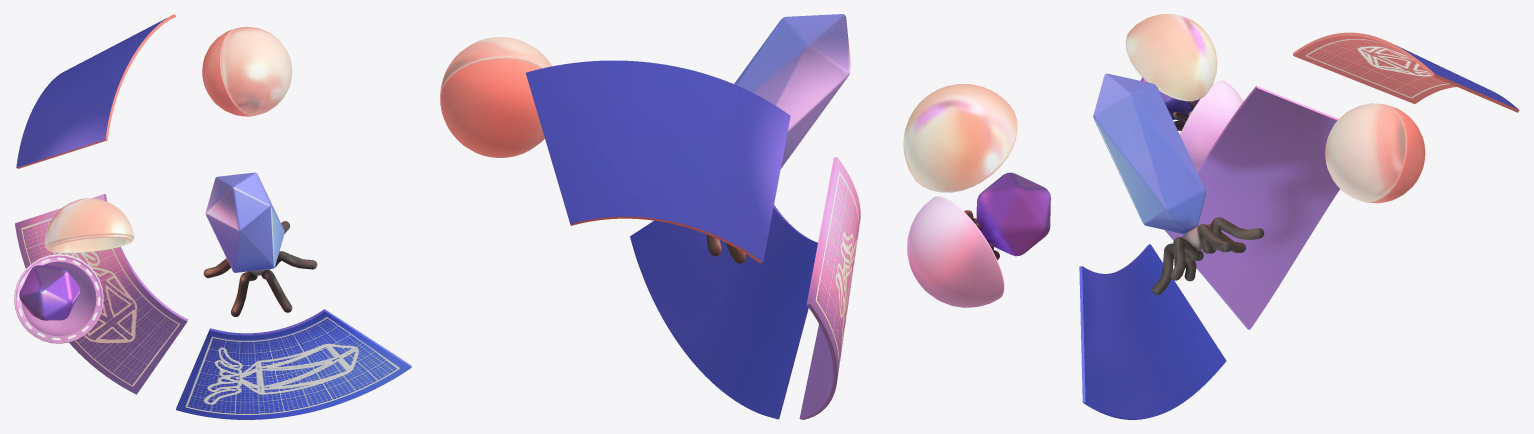
File: greenleaf.glb
The picture shows the model from 3 angles, left to right: view 1: azimuth 30°, elevation 25°; view 2: azimuth 150°, elevation 25°; view 3: azimuth 270°, elevation 25°; orthographic projection. The views are drawn at different scales.
Parts seen in each view (by area): view 1: papel5.001_Baked, papel2.001_Baked, papel1.001_Baked, Icosphere.013_Baked, mitad_arriba.005_Baked, mitad_arriba.006_Baked, mitad_abajo.006_Baked, Icosphere.010_Baked, BézierCurve.014_Baked, mitad_abajo.005_Baked; view 2: papel1.001_Baked, papel5.001_Baked, mitad_arriba.006_Baked, Icosphere.013_Baked, papel2.001_Baked, mitad_abajo.005_Baked, mitad_abajo.006_Baked, Icosphere.010_Baked, mitad_arriba.005_Baked; view 3: papel2.001_Baked, papel5.001_Baked, Icosphere.013_Baked, papel1.001_Baked, mitad_arriba.005_Baked, mitad_arriba.006_Baked, BézierCurve.014_Baked, mitad_abajo.006_Baked, mitad_abajo.005_Baked, Icosphere.010_Baked.
Part boxes in pixels (x1,y1,x2,y2): papel5.001_Baked: [176, 309, 411, 419]; papel2.001_Baked: [15, 194, 188, 394]; papel1.001_Baked: [16, 14, 175, 168]; Icosphere.013_Baked: [205, 172, 284, 272]; mitad_arriba.005_Baked: [221, 26, 292, 115]; mitad_arriba.006_Baked: [45, 198, 134, 253]; mitad_abajo.006_Baked: [14, 254, 103, 343]; Icosphere.010_Baked: [19, 265, 80, 320]; BézierCurve.014_Baked: [203, 221, 317, 316]; mitad_abajo.005_Baked: [202, 28, 254, 116]; papel1.001_Baked: [525, 60, 790, 263]; papel5.001_Baked: [630, 205, 817, 419]; mitad_arriba.006_Baked: [903, 84, 1017, 192]; Icosphere.013_Baked: [734, 14, 850, 168]; papel2.001_Baked: [799, 157, 860, 419]; mitad_abajo.005_Baked: [440, 58, 544, 157]; mitad_abajo.006_Baked: [907, 196, 1004, 307]; Icosphere.010_Baked: [976, 172, 1050, 256]; mitad_arriba.005_Baked: [440, 37, 551, 95]; papel2.001_Baked: [1165, 86, 1339, 329]; papel5.001_Baked: [1079, 244, 1226, 419]; Icosphere.013_Baked: [1093, 73, 1206, 233]; papel1.001_Baked: [1293, 32, 1519, 112]; mitad_arriba.005_Baked: [1325, 103, 1405, 202]; mitad_arriba.006_Baked: [1125, 14, 1217, 101]; BézierCurve.014_Baked: [1152, 217, 1264, 295]; mitad_abajo.006_Baked: [1180, 80, 1243, 171]; mitad_abajo.005_Baked: [1366, 104, 1425, 203]; Icosphere.010_Baked: [1140, 77, 1199, 119].
Bounding box in the file's own units: 3.2 × 2.76 × 3.1.
1 material, 1 textured.
